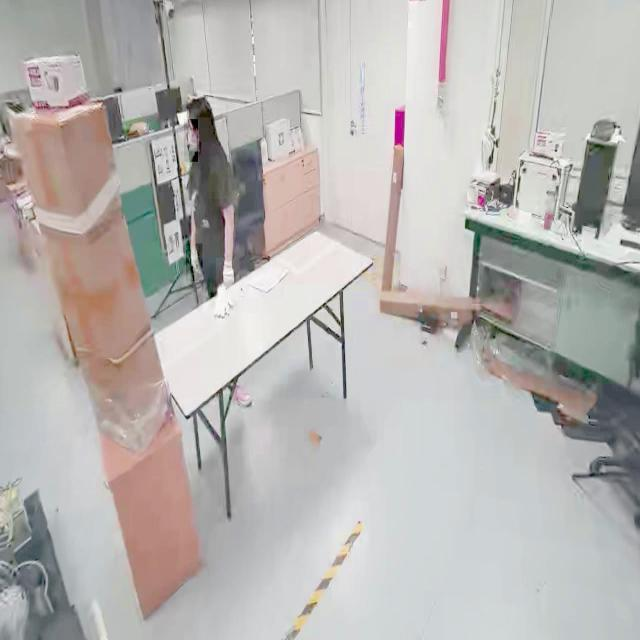face_mask: (184, 119, 198, 162)
hand_glove: (215, 258, 239, 300), (185, 244, 202, 282)
head_nohelmet: (187, 95, 214, 118)
person: (176, 98, 228, 304)
